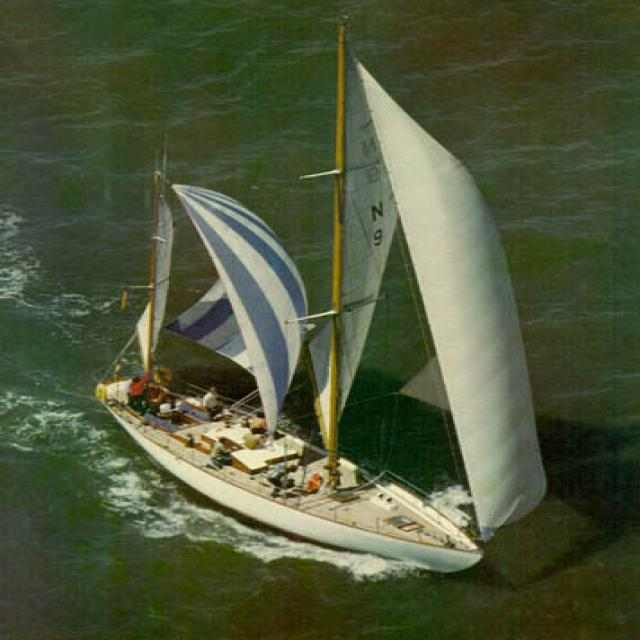Ship: (106, 30, 550, 582)
